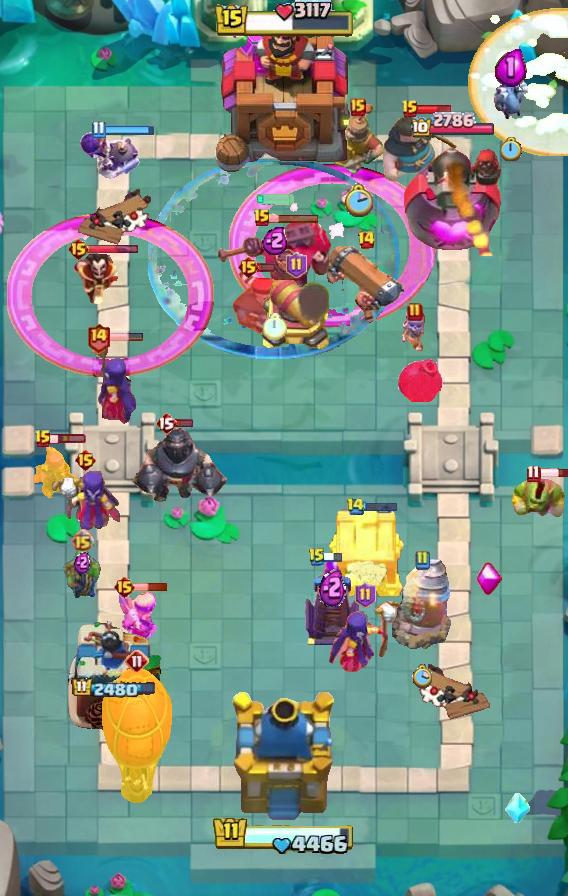arrows: (120, 587, 161, 652)
axe: (327, 599, 403, 673), (50, 471, 120, 533), (90, 333, 138, 423)
baby-dragon: (397, 357, 443, 402)
battle-healer: (325, 241, 407, 325)
bomb: (326, 505, 406, 599)
cannon-cart: (101, 667, 173, 807)
clock: (212, 815, 356, 857), (213, 0, 355, 40)
earthquake: (329, 104, 387, 174)
electro-spirit: (495, 47, 527, 87), (319, 566, 345, 607), (262, 225, 289, 255), (74, 550, 90, 574)
elixir: (343, 183, 373, 217), (263, 312, 287, 339), (501, 137, 522, 161), (412, 663, 432, 688)
emote: (103, 124, 155, 136), (268, 213, 320, 224), (87, 245, 139, 256), (49, 433, 86, 445), (362, 500, 398, 512), (417, 105, 452, 116), (108, 332, 144, 342), (538, 467, 568, 479), (133, 582, 168, 592), (256, 262, 276, 273), (324, 553, 343, 564), (175, 418, 194, 428)
evolution-symbol: (33, 439, 81, 499)
flying-machine: (508, 474, 568, 528)
giant-snowball: (62, 544, 102, 602)
goblin: (399, 311, 431, 351)
goblin-ball: (78, 128, 140, 180)
ice-spirit: (254, 194, 296, 206)
ice-spirit-evolution-symbol: (302, 555, 362, 647)
inferno-tower: (214, 216, 336, 300)
king-tower: (211, 7, 357, 181), (227, 692, 341, 826)
knight-evolution: (6, 213, 214, 377), (228, 165, 436, 328)
lumberjack: (70, 250, 122, 304)
magic-archer: (392, 558, 452, 650)
pad_0: (148, 157, 402, 359)
pad_2: (504, 793, 530, 825)
phoenix-big: (468, 8, 568, 156)
phoenix-small: (231, 269, 293, 341)
queen-tower: (65, 617, 163, 731)
royal-delivery: (491, 78, 531, 122)
royal-guardian: (128, 419, 230, 505)
royal-hog: (382, 113, 462, 185)
royal-recruit: (260, 280, 332, 354)
selected: (410, 112, 496, 140), (71, 676, 157, 700)
skeleton-king-skill: (476, 562, 502, 596)
text: (85, 322, 110, 353), (125, 649, 149, 673), (67, 237, 90, 261), (237, 255, 260, 279), (74, 448, 97, 472), (113, 575, 136, 599), (286, 252, 307, 278), (355, 582, 376, 608), (70, 529, 93, 552), (155, 411, 177, 435), (356, 230, 375, 250), (401, 99, 419, 119), (253, 208, 271, 228), (34, 429, 52, 449), (308, 547, 326, 567), (347, 497, 366, 515), (407, 302, 423, 322), (414, 550, 430, 570), (350, 98, 366, 116), (91, 120, 105, 139), (527, 465, 541, 483)
tower-bar: (404, 138, 505, 256)
